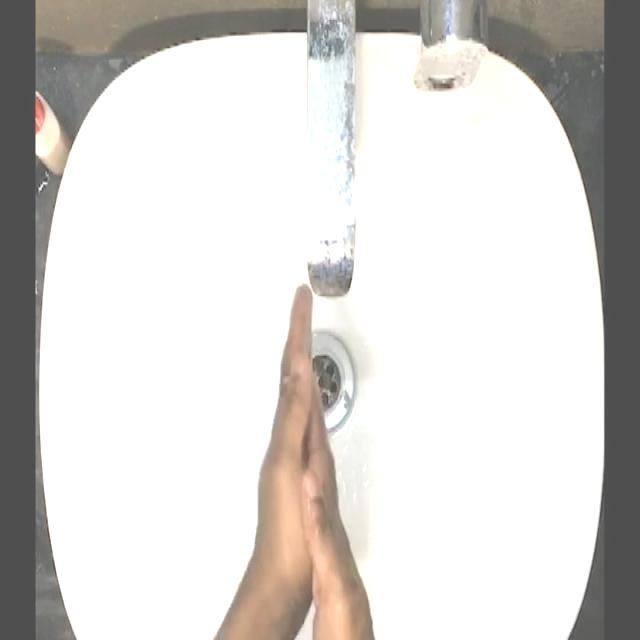step_1: (243, 268, 379, 584)
